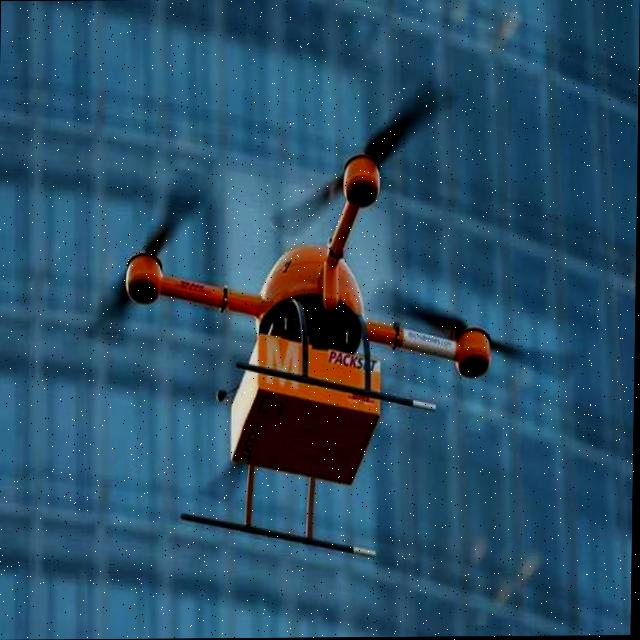drone: (77, 128, 520, 432)
